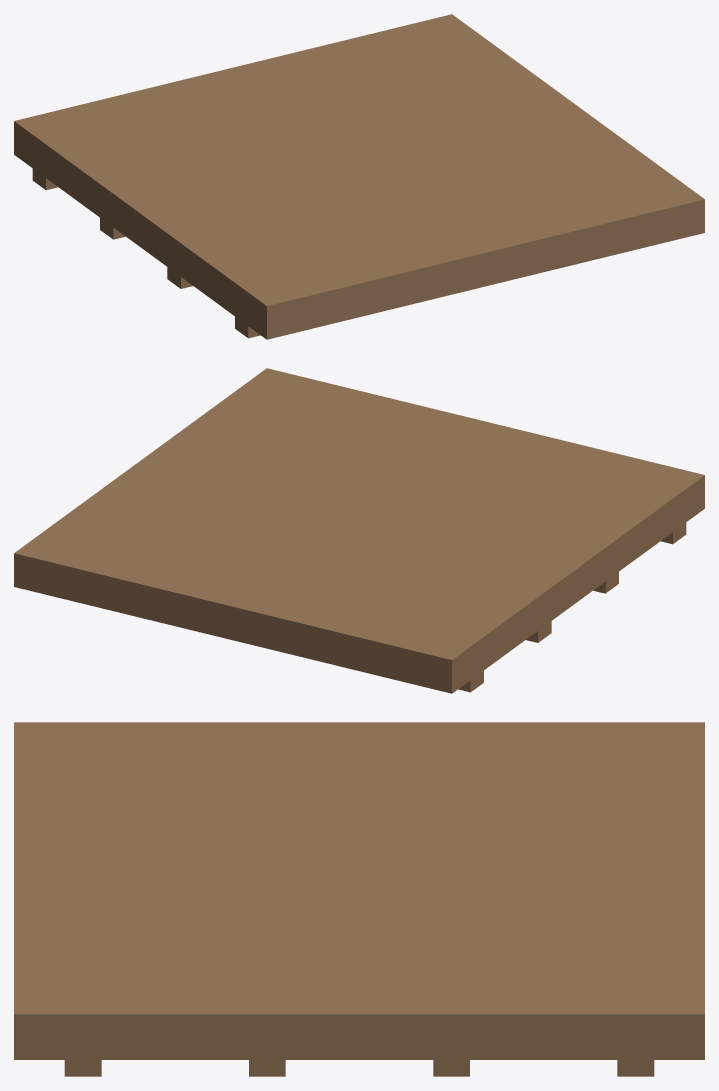
The model's file is BD_floor.fbx.
3 renders of one model, top to bottom at view 1: azimuth 30°, elevation 25°; view 2: azimuth 150°, elevation 25°; view 3: azimuth 270°, elevation 25°, orthographic. The views are drawn at different scales.
Parts seen in each view (by area): view 1: BD_floor.001; view 2: BD_floor.001; view 3: BD_floor.001.
Part boxes in pixels (x1=…): BD_floor.001: x1=14, y1=14, x2=704, y2=339; BD_floor.001: x1=14, y1=368, x2=704, y2=693; BD_floor.001: x1=14, y1=722, x2=704, y2=1076.
Bounding box in the file's own units: 3 × 0.3 × 3.
